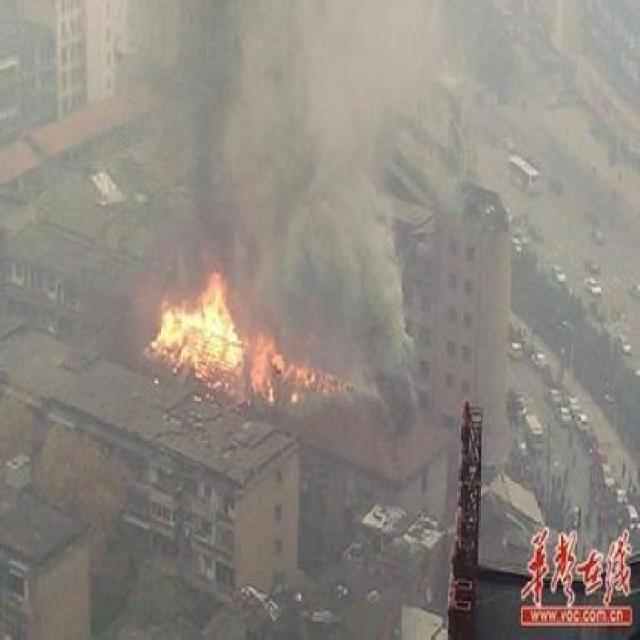Fire: (150, 276, 332, 410)
Smoke: (235, 2, 410, 338), (153, 4, 229, 269), (337, 338, 416, 430)
